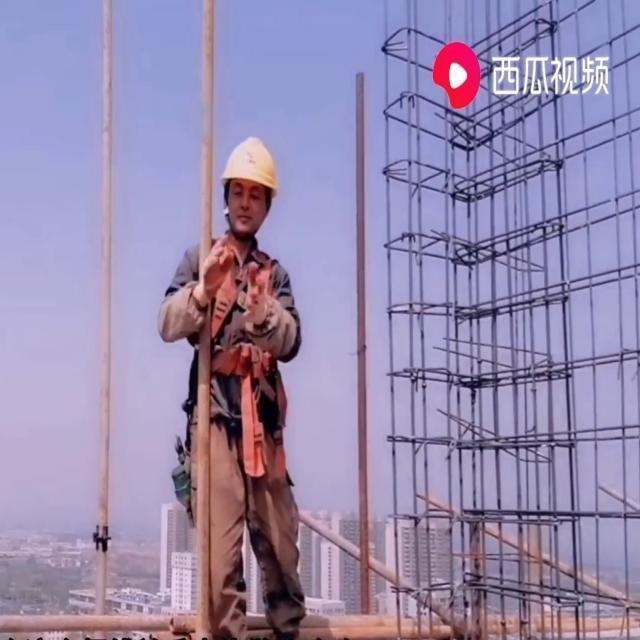Arnes_seguridad: (186, 225, 287, 398)
